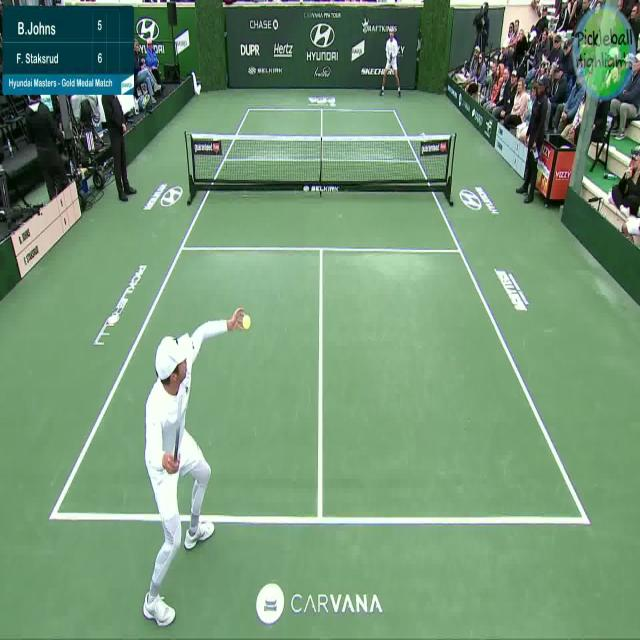ball: (241, 313, 252, 330)
